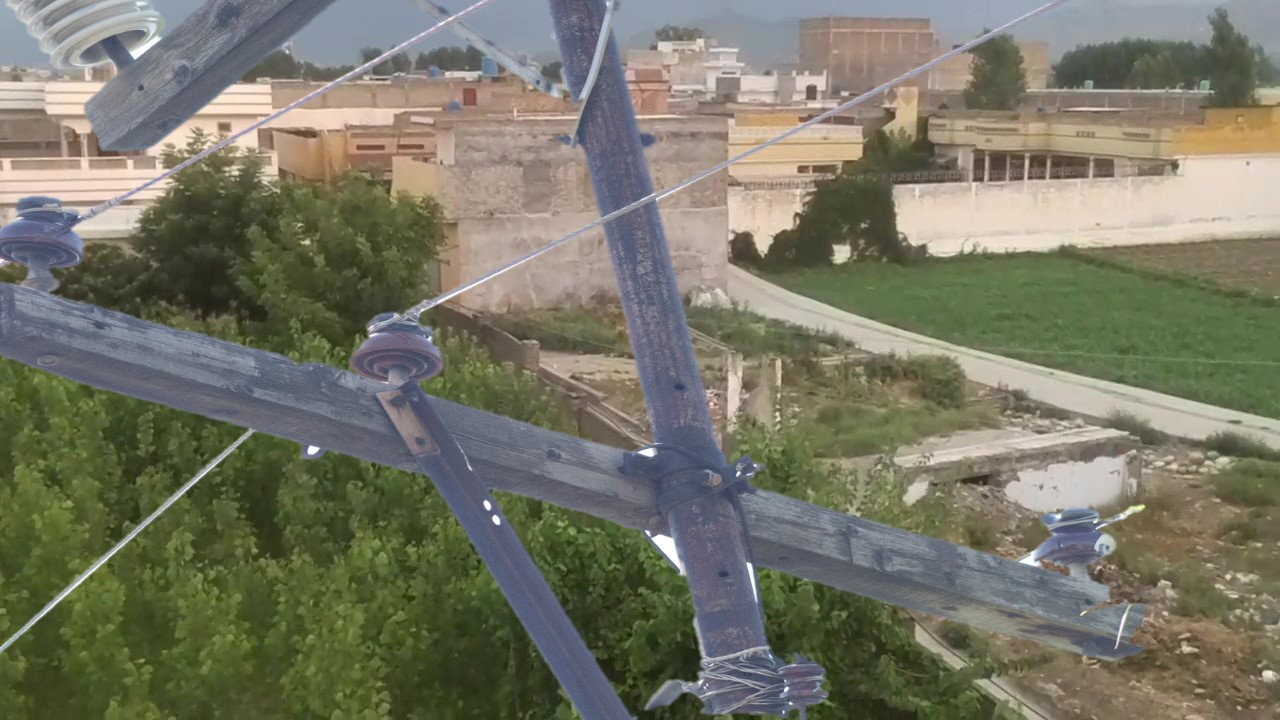defect_pin: (1034, 500, 1124, 566)
insulator_pin: (349, 306, 449, 385), (5, 196, 89, 274)
